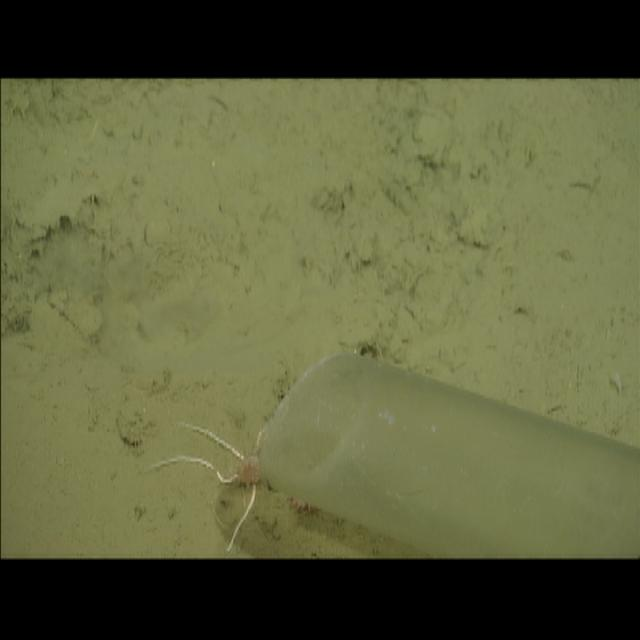Brittle Star: (140, 350, 360, 552)
